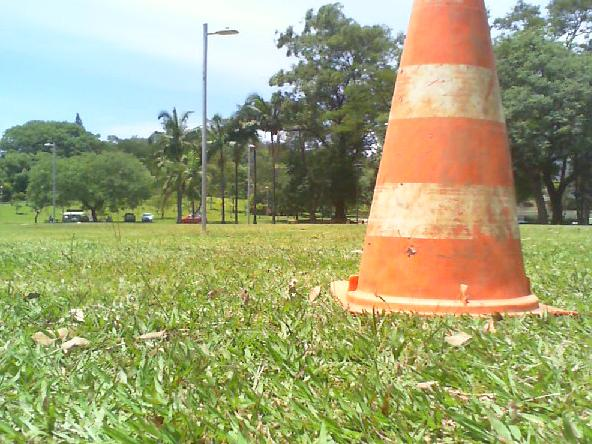0 cone: (331, 0, 580, 318)
